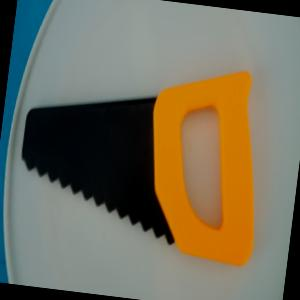serrote: (10, 43, 276, 270)
